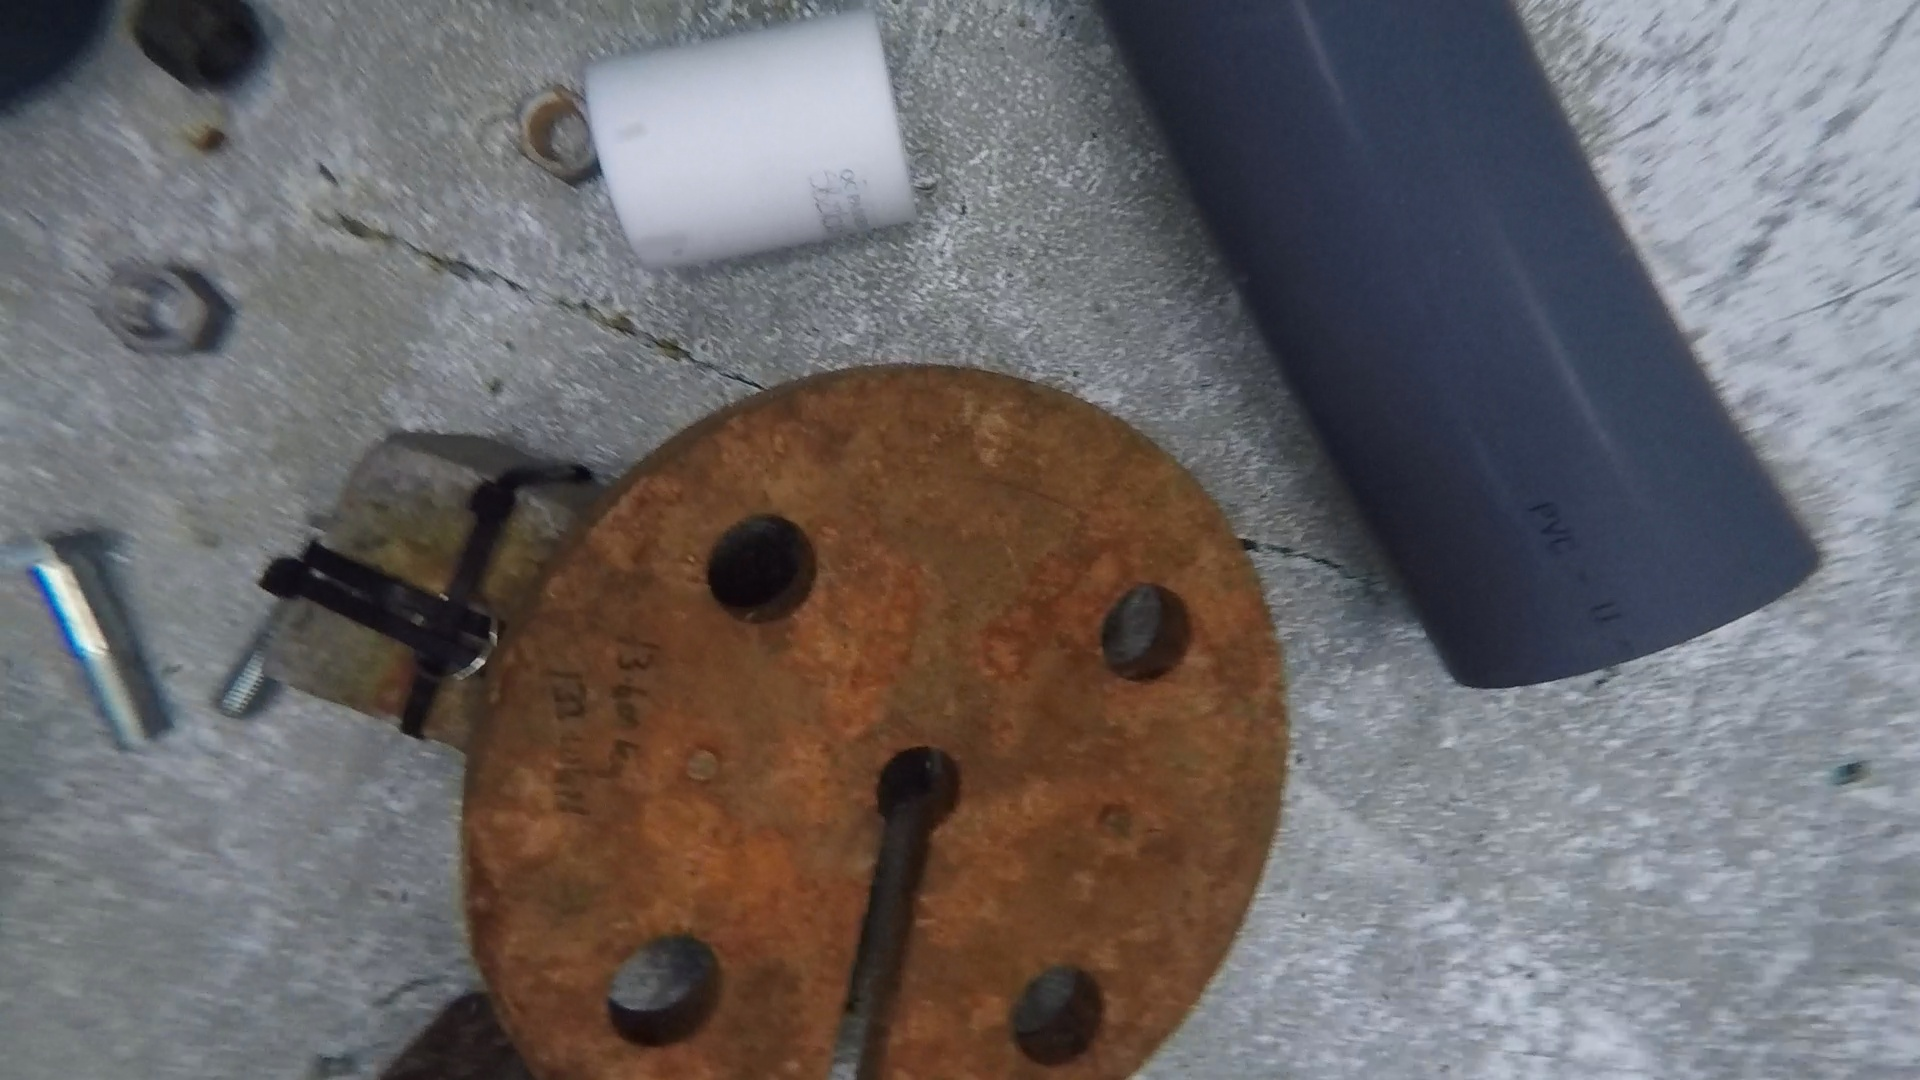bolt: (11, 527, 166, 752), (219, 615, 289, 723)
flange: (459, 363, 1287, 1080)
led_block: (260, 429, 580, 756)
nut: (92, 262, 233, 359), (129, 1, 262, 94), (516, 86, 600, 186)
pipe: (1101, 1, 1825, 692), (584, 7, 919, 272)
